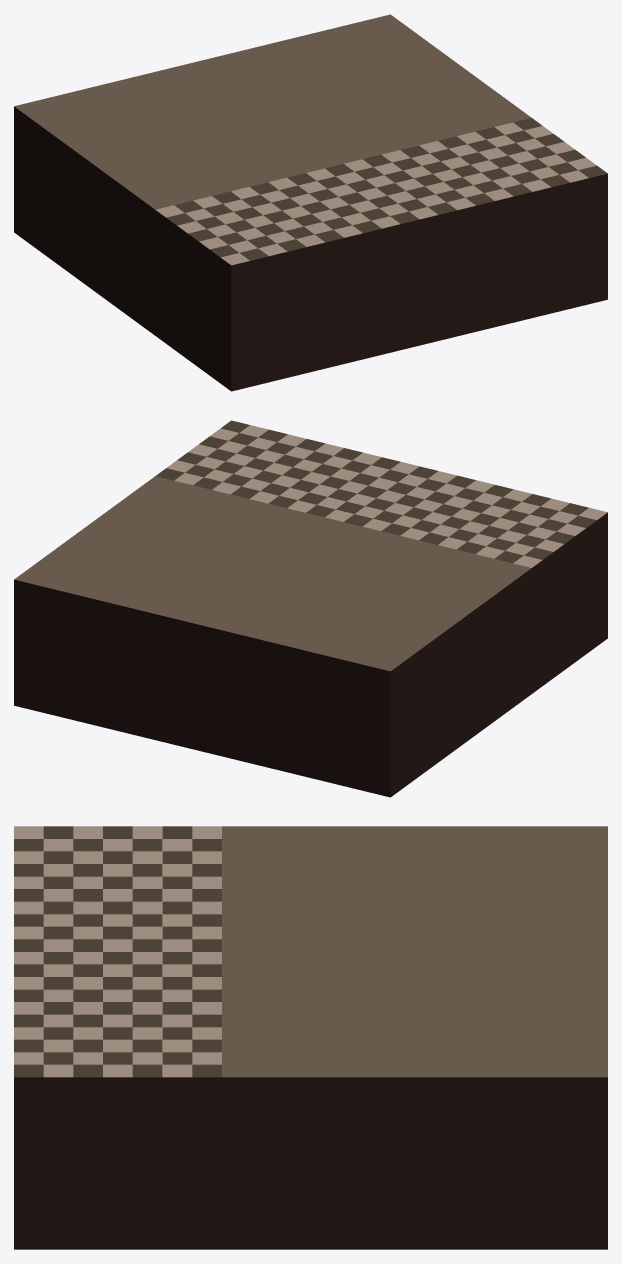
The model's file is Vault Land Chunk.FBX.
3 renders of one model, top to bottom at view 1: azimuth 30°, elevation 25°; view 2: azimuth 150°, elevation 25°; view 3: azimuth 270°, elevation 25°, orthographic. The views are drawn at different scales.
Visible parts, largest first — view 1: Vault Land Chunk; view 2: Vault Land Chunk; view 3: Vault Land Chunk.
Boxes of the visible parts, left/top/right/bottom form: Vault Land Chunk: left=14, top=14, right=607, bottom=391; Vault Land Chunk: left=14, top=420, right=607, bottom=797; Vault Land Chunk: left=14, top=826, right=607, bottom=1249.
Size of the model in its own units: 25 by 8 by 25.
